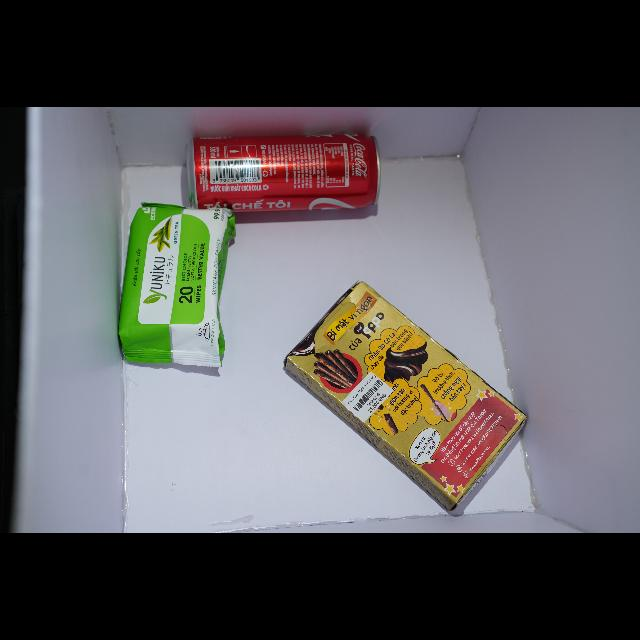coca_cola: (285, 282, 526, 510), (188, 134, 379, 212)
khan_giay: (120, 203, 234, 367)
